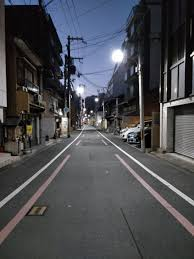strada: (4, 172, 191, 258)
